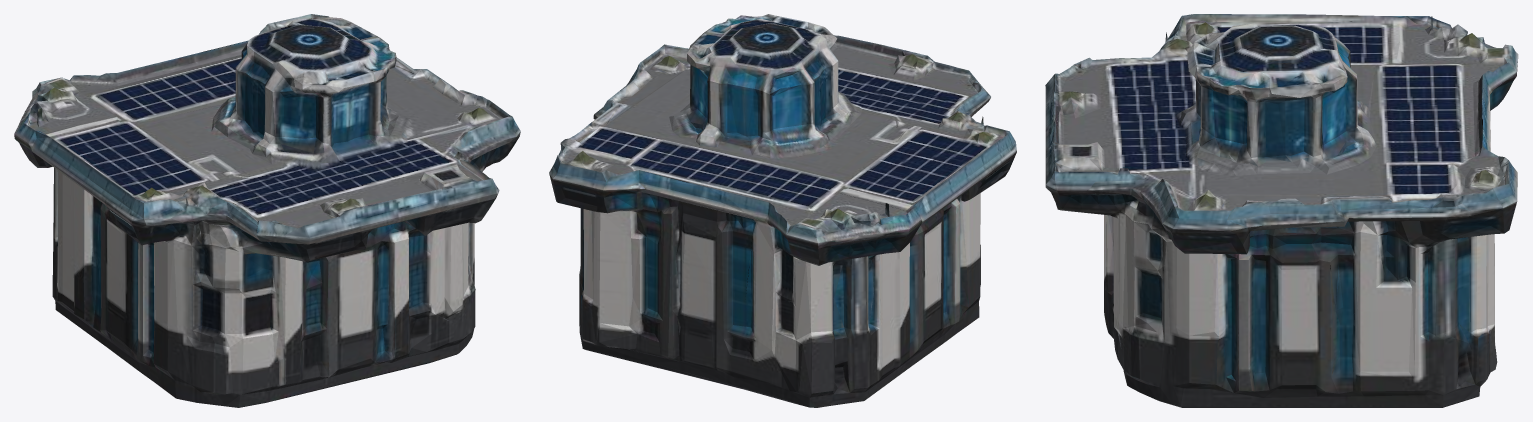
File: kit4-roof.glb
3 renders of one model, left to right at view 1: azimuth 30°, elevation 25°; view 2: azimuth 150°, elevation 25°; view 3: azimuth 270°, elevation 25°, orthographic. The views are drawn at different scales.
Visible parts, largest first — view 1: Mesh_0.001; view 2: Mesh_0.001; view 3: Mesh_0.001.
Part boxes in pixels (<box>): Mesh_0.001: <box>14,14,520,407</box>; Mesh_0.001: <box>549,14,1016,407</box>; Mesh_0.001: <box>1045,14,1518,407</box>.
Bounding box in the file's own units: 0.998 × 0.7018 × 0.9835.
Materials: 1 (1 with a texture image).
